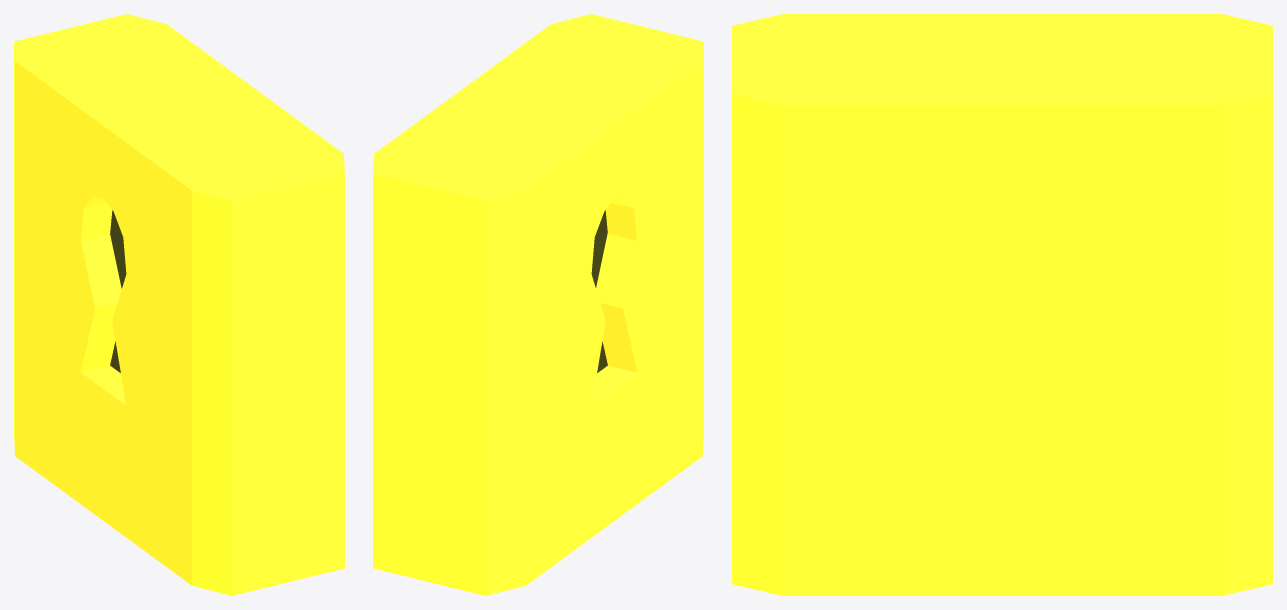
File: RadioactiveLock.fbx
The picture shows the model from 3 angles, left to right: view 1: azimuth 30°, elevation 25°; view 2: azimuth 150°, elevation 25°; view 3: azimuth 270°, elevation 25°; orthographic projection. The views are drawn at different scales.
Parts seen in each view (by area): view 1: Cube.001, Cube; view 2: Cube.001, Cube; view 3: Cube.001.
Part boxes in pixels (<box>): Cube.001: <box>14,14,344,595</box>; Cube: <box>110,210,126,372</box>; Cube.001: <box>373,14,703,595</box>; Cube: <box>591,210,607,372</box>; Cube.001: <box>732,14,1272,595</box>.
Bounding box in the file's own units: 40.21 × 100 × 100.
